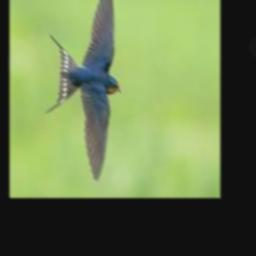Swallow: (44, 0, 121, 181)
